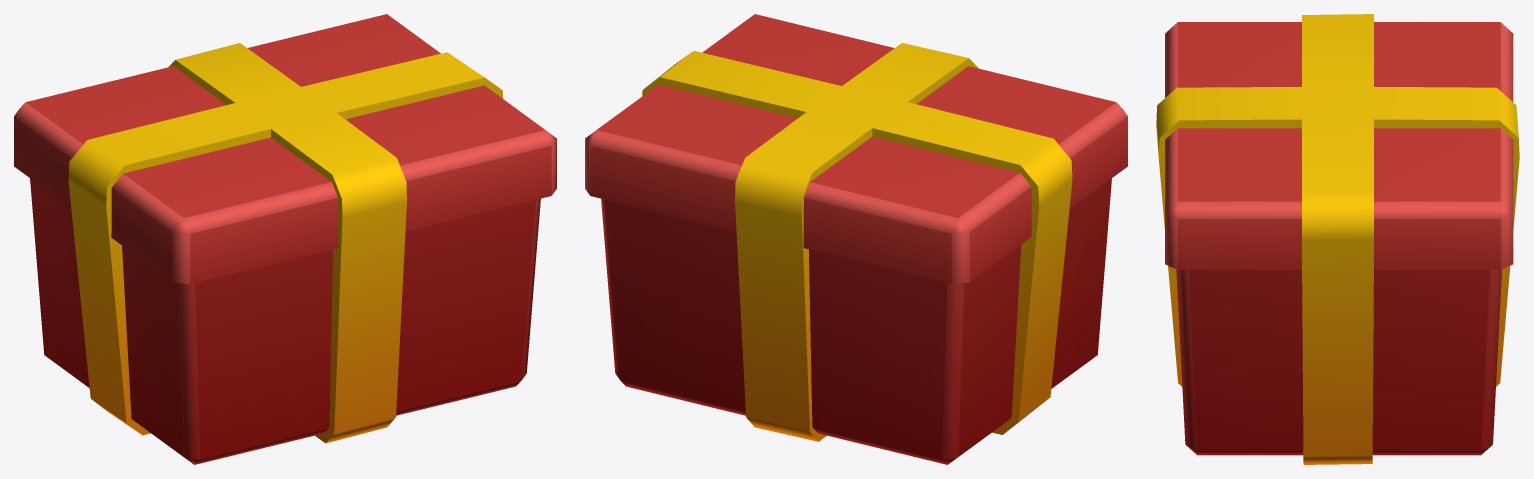
Rendered from giftbox_002.fbx.
The picture shows the model from 3 angles, left to right: view 1: azimuth 30°, elevation 25°; view 2: azimuth 150°, elevation 25°; view 3: azimuth 270°, elevation 25°; orthographic projection.
Visible parts, largest first — view 1: giftbox_002; view 2: giftbox_002; view 3: giftbox_002.
Boxes of the visible parts, x1,y1,x2,y2 form: giftbox_002: [14, 14, 556, 464]; giftbox_002: [585, 14, 1127, 464]; giftbox_002: [1156, 14, 1519, 464].
Bounding box in the file's own units: 285 × 220 × 188.
